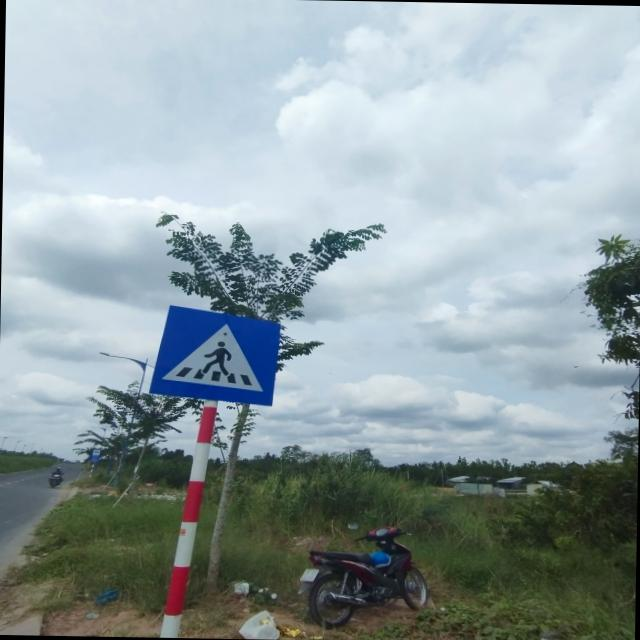Giao_Nhau_Duong_Uu_Tien: (150, 304, 282, 406)
